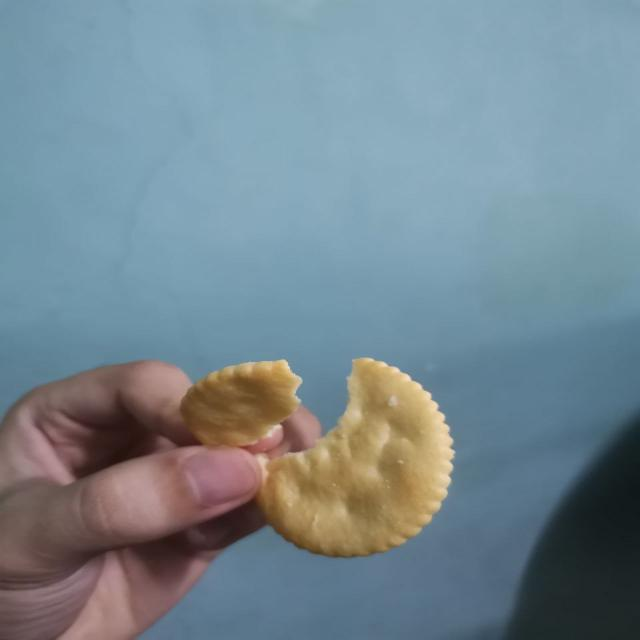broken biscuit: (254, 356, 456, 558), (178, 358, 304, 448)
